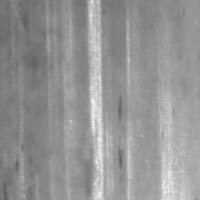inclusion: (114, 95, 129, 122), (115, 144, 128, 173)
scratches: (84, 1, 107, 200), (54, 35, 80, 174), (157, 97, 178, 200)
